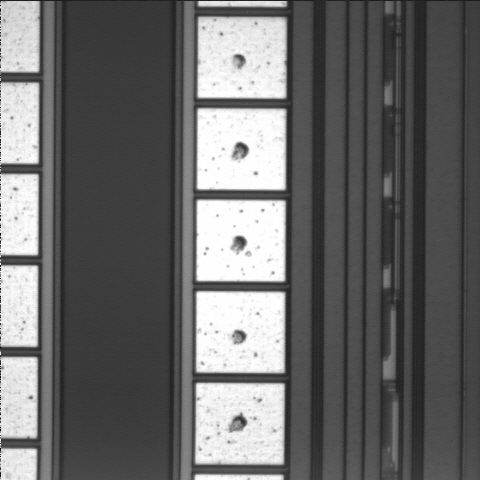pad: (197, 108, 286, 190), (196, 291, 285, 373), (196, 200, 285, 281), (195, 383, 284, 464), (198, 17, 286, 98)
